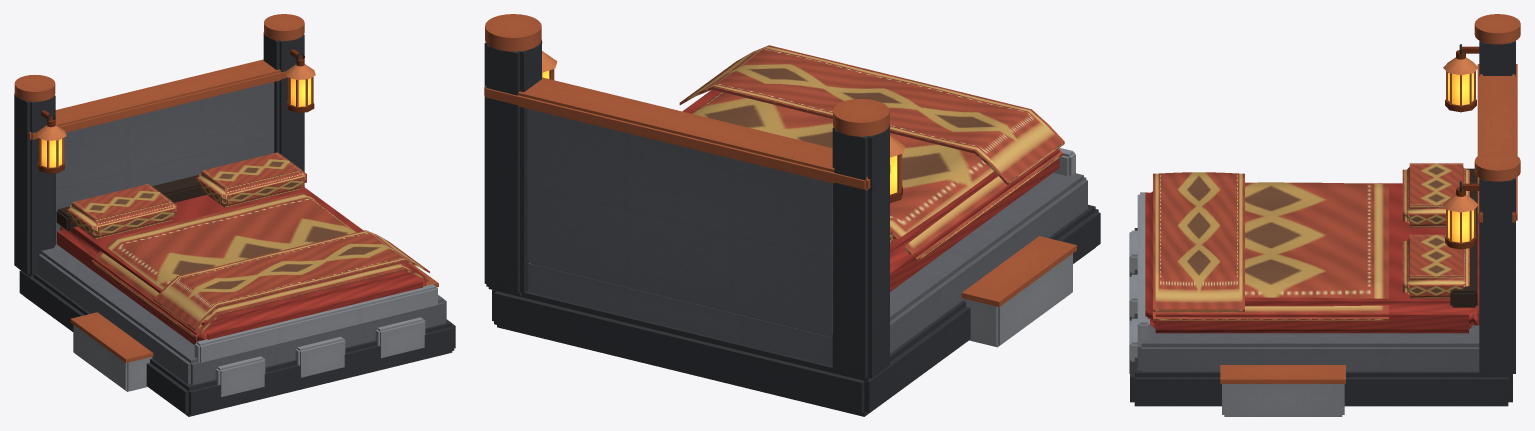
Rendered from bed_cavern_hearth.glb.
3 renders of one model, left to right at view 1: azimuth 30°, elevation 25°; view 2: azimuth 150°, elevation 25°; view 3: azimuth 270°, elevation 25°, orthographic. The views are drawn at different scales.
Parts seen in each view (by area): view 1: bed_cavern_hearth; view 2: bed_cavern_hearth; view 3: bed_cavern_hearth.
Boxes of the visible parts, x1,y1,x2,y2 form: bed_cavern_hearth: [14, 14, 455, 416]; bed_cavern_hearth: [484, 14, 1100, 416]; bed_cavern_hearth: [1129, 14, 1520, 416].
Size of the model in its own units: 2.66 by 1.74 by 2.55.
1 material, 1 textured.
